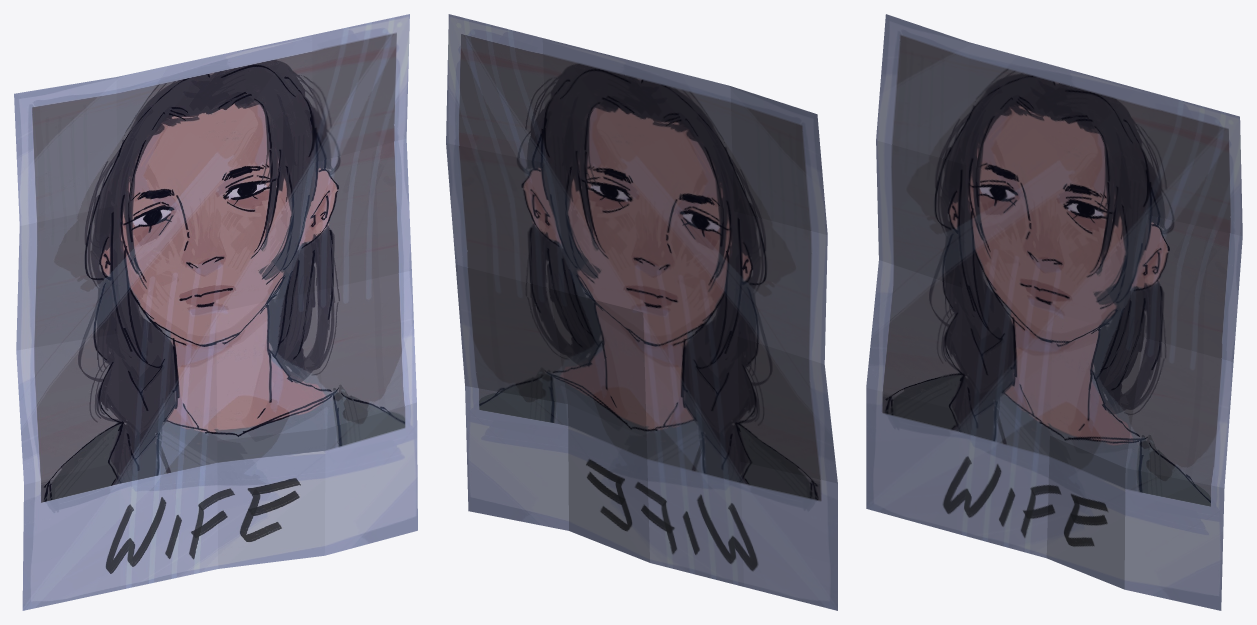
The model's file is WifePolaroid.fbx.
The picture shows the model from 3 angles, left to right: view 1: azimuth 30°, elevation 25°; view 2: azimuth 150°, elevation 25°; view 3: azimuth 330°, elevation 25°; orthographic projection. The views are drawn at different scales.
Visible parts, largest first — view 1: Plane.001; view 2: Plane.001; view 3: Plane.001.
Boxes of the visible parts, box(x1,y1,x2,y2) form: Plane.001: box(14, 14, 417, 610); Plane.001: box(446, 14, 837, 610); Plane.001: box(866, 14, 1242, 610).
Size of the model in its own units: 143 by 179 by 20.01.
Materials: 1 (1 with a texture image).
